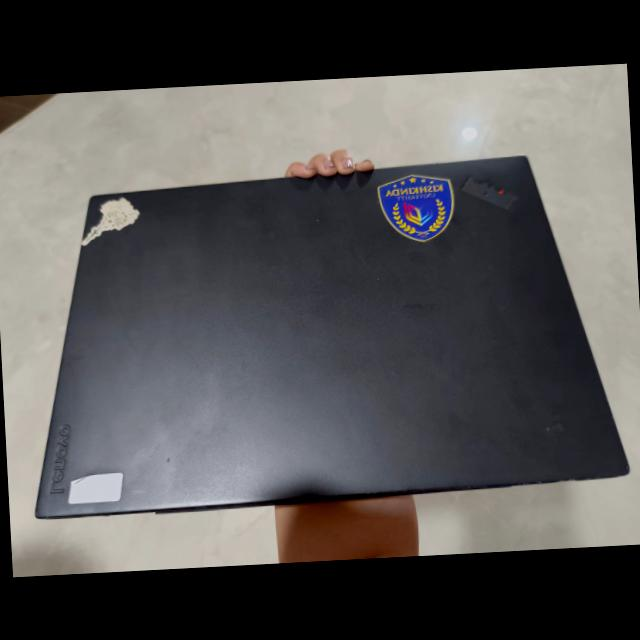laptop: (0, 131, 639, 524)
